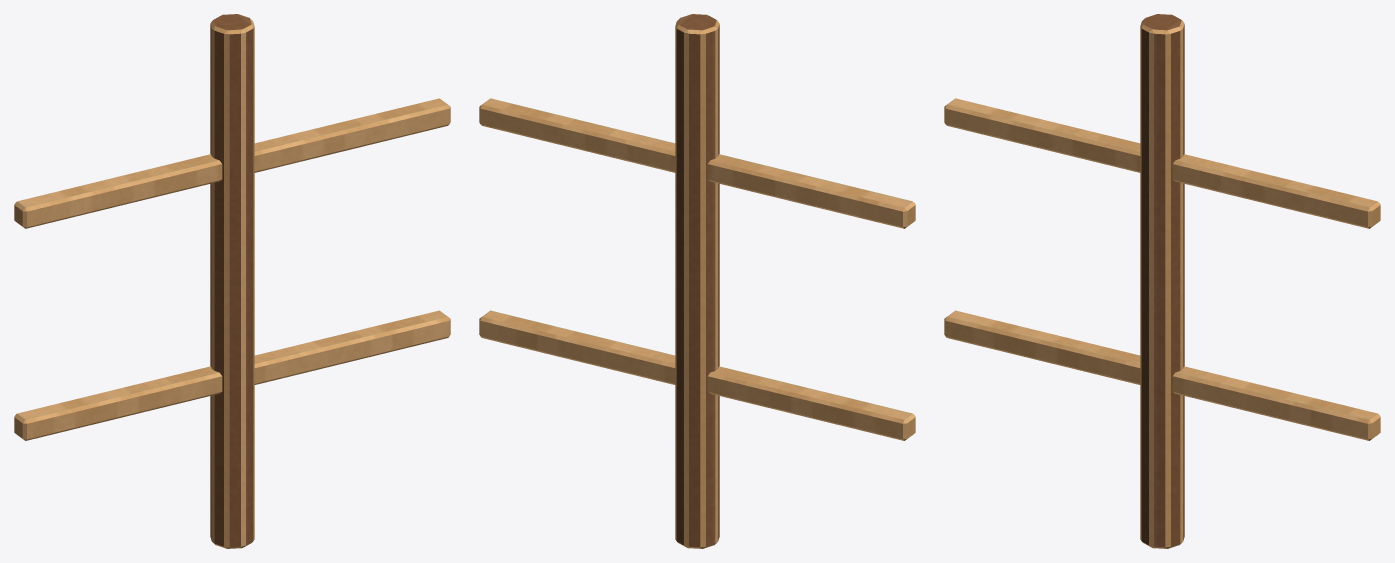
Rendered from sm_fence_post.glb.
3 renders of one model, left to right at view 1: azimuth 30°, elevation 25°; view 2: azimuth 150°, elevation 25°; view 3: azimuth 330°, elevation 25°, orthographic.
Visible parts, largest first — view 1: sm_fence_post; view 2: sm_fence_post; view 3: sm_fence_post.
Part boxes in pixels (x1,y1,x2,y2): sm_fence_post: [14, 14, 450, 548]; sm_fence_post: [479, 14, 915, 548]; sm_fence_post: [944, 14, 1380, 548].
Bounding box in the file's own units: 0.95 × 1.1 × 0.0854.
1 material, 1 textured.
